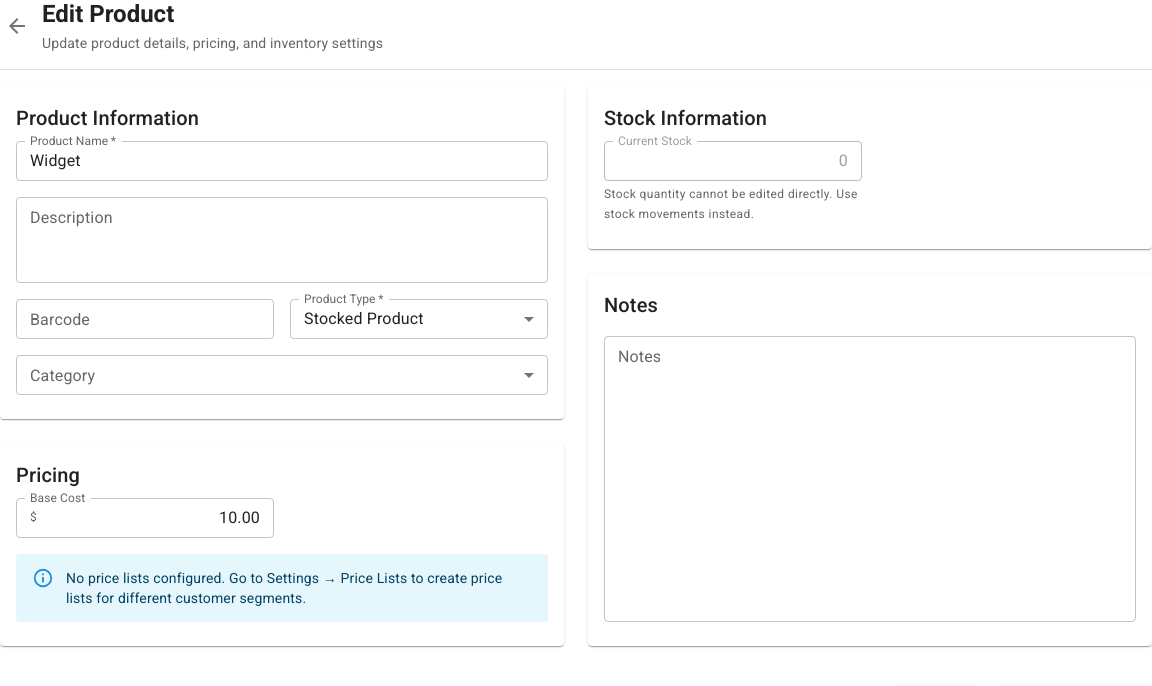
Test: CreateProductPage type change › warns (with Confirm) on Stocked→Service when stock is 0
Expected: the field showing "Widget" is shown, [16,141,548,181]
Click the dropdown named "Product Type".
click(364, 319)  # box [304,309,424,328]
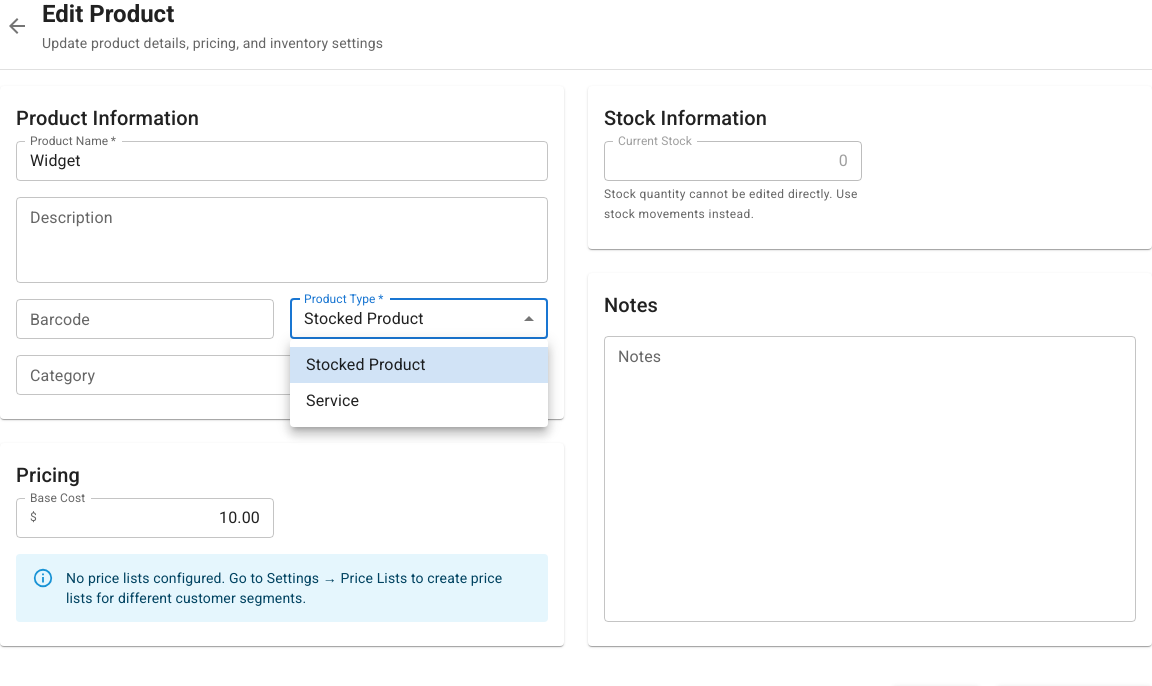
Click the option "Service".
click(333, 400)  # box [306,391,359,410]
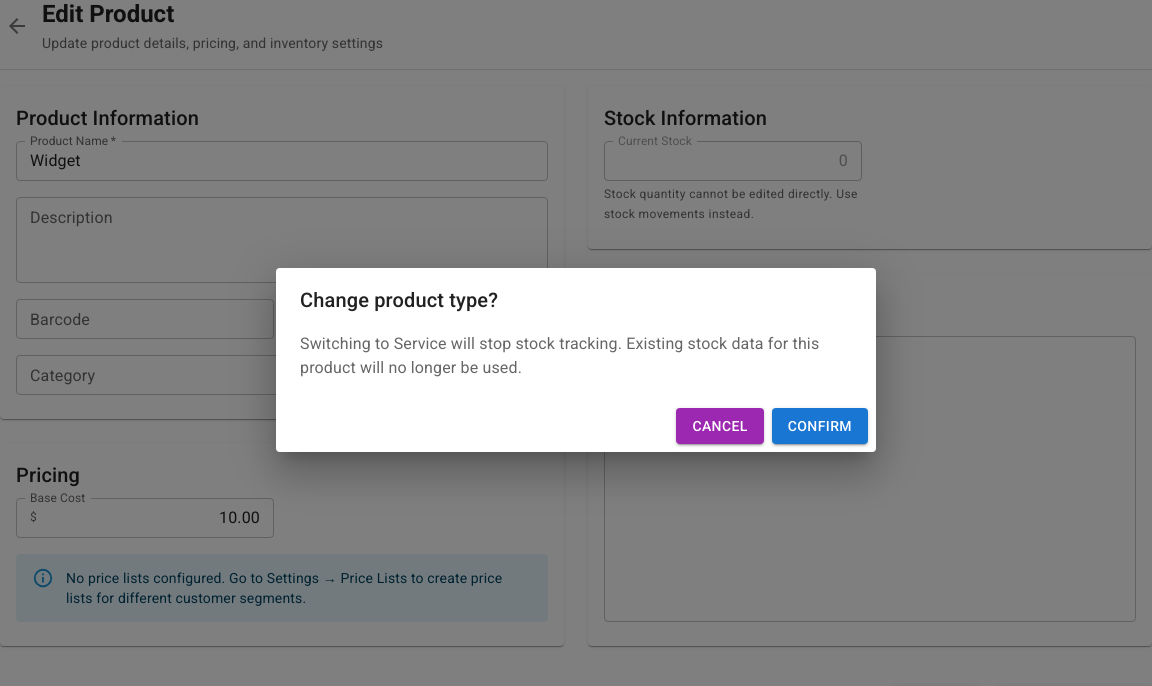
Expected: the text "stop stock tracking" is shown, [300,334,819,377]
Confirm applies the conversion: dialog closes and the type field becomes Service.
Click the button "Confirm".
click(820, 426)  # box [772,408,868,444]
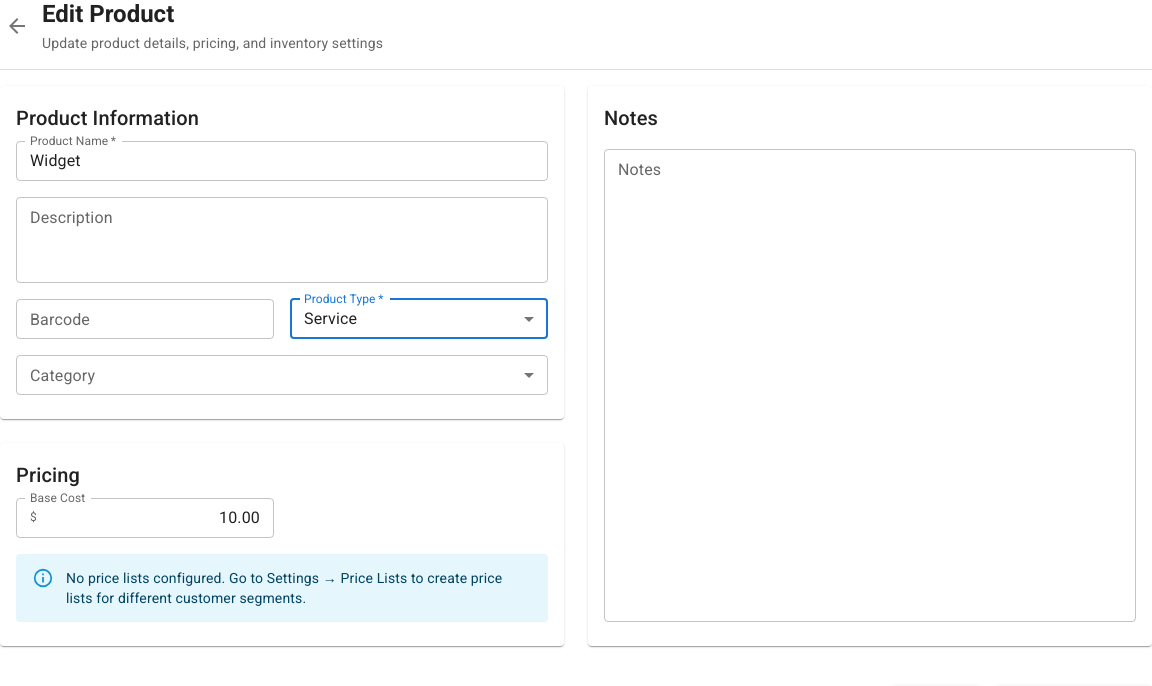
Expected: the element showing "Service" is shown, [290,299,548,339]
